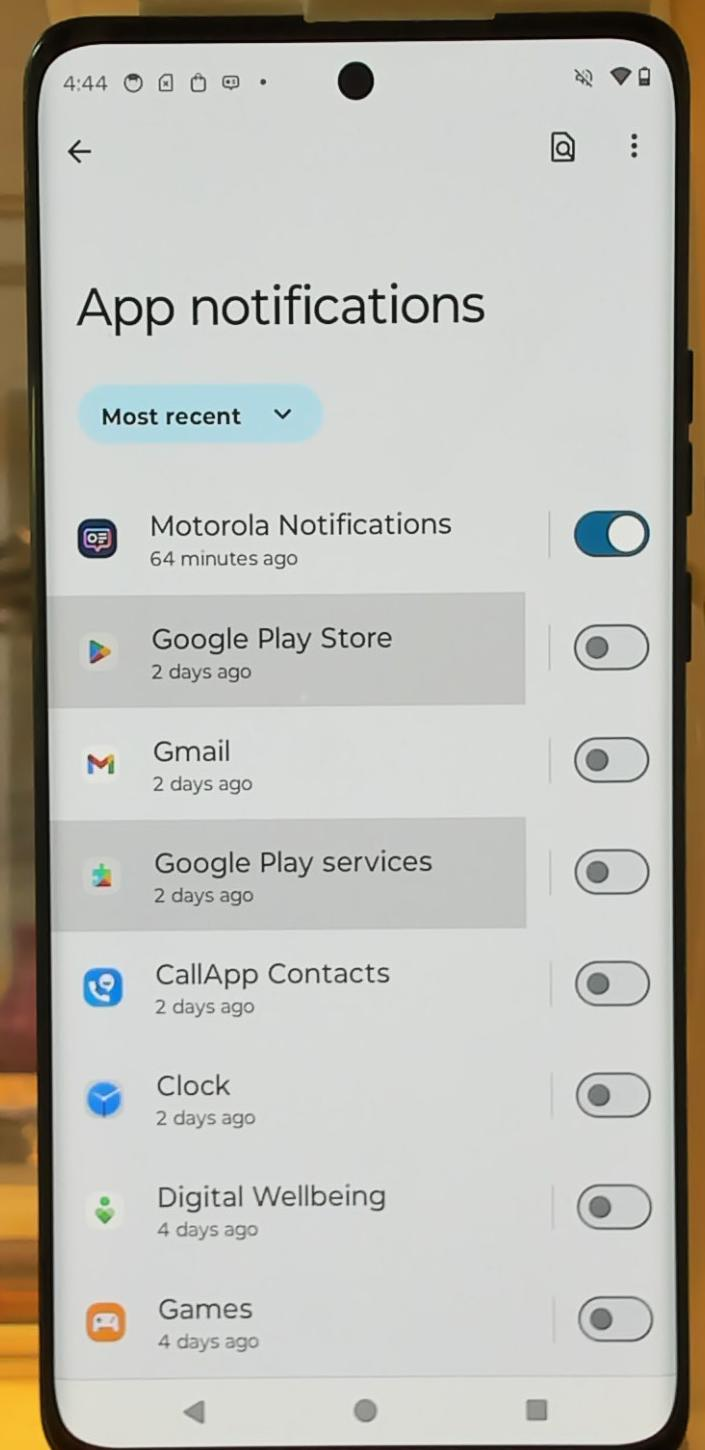Checkbox: (563, 485, 663, 572), (568, 613, 657, 690), (568, 728, 656, 792), (567, 841, 655, 901), (568, 952, 656, 1009), (576, 1289, 660, 1348), (571, 1178, 656, 1234), (571, 1068, 655, 1122)
